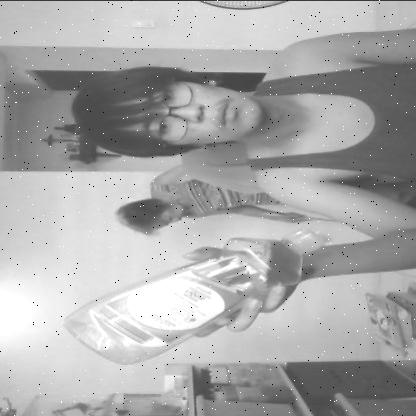Plastic Bottle: (58, 222, 332, 362)
